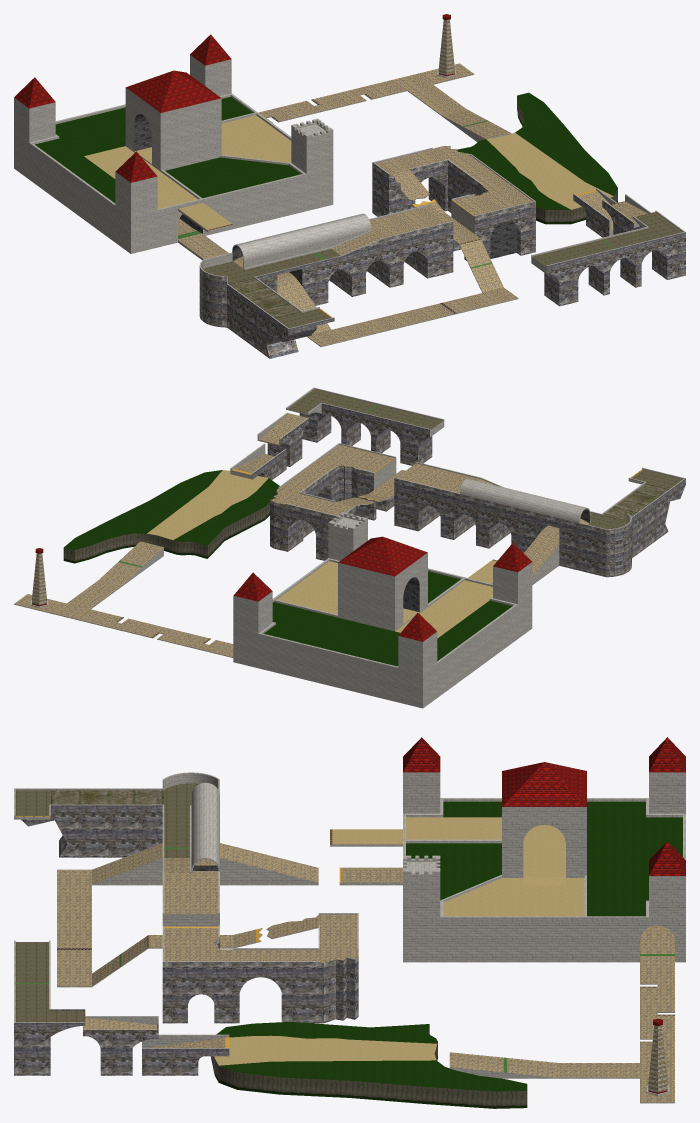
3 renders of one model, top to bottom at view 1: azimuth 30°, elevation 25°; view 2: azimuth 150°, elevation 25°; view 3: azimuth 270°, elevation 25°, orthographic. The views are drawn at different scales.
Visible parts, largest first — view 1: Rempart_Road_YKe_Main-mur1, Rempart_Road_YKe_Main-parois, Rempart_Road_YKe_Main-road, Rempart_Road_YKe_Main-grass_offroad, Rempart_Road_YKe_Main-sand_road, Rempart_Road_YKe_Main-toit, Rempart_Road_YKe_Main-wood_road, Rempart_Road_YKe_Main-mur_int, Rempart_Road_YKe_Main-wood_road1, Rempart_Road_YKe_Main-parois2, Rempart_Road_YKe_Main-phare1; view 2: Rempart_Road_YKe_Main-mur1, Rempart_Road_YKe_Main-parois, Rempart_Road_YKe_Main-grass_offroad, Rempart_Road_YKe_Main-road, Rempart_Road_YKe_Main-sand_road, Rempart_Road_YKe_Main-toit, Rempart_Road_YKe_Main-wood_road, Rempart_Road_YKe_Main-parois2, Rempart_Road_YKe_Main-wood_road1, Rempart_Road_YKe_Main-mur_int, Rempart_Road_YKe_Main-phare1; view 3: Rempart_Road_YKe_Main-mur1, Rempart_Road_YKe_Main-road, Rempart_Road_YKe_Main-parois, Rempart_Road_YKe_Main-grass_offroad, Rempart_Road_YKe_Main-sand_road, Rempart_Road_YKe_Main-toit, Rempart_Road_YKe_Main-wood_road, Rempart_Road_YKe_Main-parois2, Rempart_Road_YKe_Main-wood_road1, Rempart_Road_YKe_Main-phare1.
Boxes of the visible parts, bbox=[...] form: Rempart_Road_YKe_Main-mur1: bbox=[14, 55, 685, 346]; Rempart_Road_YKe_Main-parois: bbox=[199, 160, 685, 358]; Rempart_Road_YKe_Main-road: bbox=[178, 63, 647, 346]; Rempart_Road_YKe_Main-grass_offroad: bbox=[35, 92, 617, 209]; Rempart_Road_YKe_Main-sand_road: bbox=[84, 115, 613, 229]; Rempart_Road_YKe_Main-toit: bbox=[14, 14, 454, 182]; Rempart_Road_YKe_Main-wood_road: bbox=[203, 212, 682, 328]; Rempart_Road_YKe_Main-mur_int: bbox=[134, 114, 516, 285]; Rempart_Road_YKe_Main-wood_road1: bbox=[229, 278, 300, 318]; Rempart_Road_YKe_Main-parois2: bbox=[457, 96, 617, 224]; Rempart_Road_YKe_Main-phare1: bbox=[438, 19, 454, 74]; Rempart_Road_YKe_Main-mur1: bbox=[14, 387, 685, 708]; Rempart_Road_YKe_Main-parois: bbox=[252, 403, 685, 577]; Rempart_Road_YKe_Main-grass_offroad: bbox=[64, 470, 512, 666]; Rempart_Road_YKe_Main-road: bbox=[14, 413, 589, 657]; Rempart_Road_YKe_Main-sand_road: bbox=[147, 470, 496, 638]; Rempart_Road_YKe_Main-toit: bbox=[32, 536, 532, 641]; Rempart_Road_YKe_Main-wood_road: bbox=[288, 389, 682, 529]; Rempart_Road_YKe_Main-parois2: bbox=[63, 502, 269, 563]; Rempart_Road_YKe_Main-wood_road1: bbox=[603, 483, 669, 521]; Rempart_Road_YKe_Main-mur_int: bbox=[403, 509, 589, 612]; Rempart_Road_YKe_Main-phare1: bbox=[32, 553, 46, 605]; Rempart_Road_YKe_Main-mur1: bbox=[14, 772, 685, 1103]; Rempart_Road_YKe_Main-road: bbox=[57, 843, 674, 1102]; Rempart_Road_YKe_Main-parois: bbox=[14, 805, 440, 1075]; Rempart_Road_YKe_Main-grass_offroad: bbox=[216, 801, 682, 1091]; Rempart_Road_YKe_Main-sand_road: bbox=[214, 817, 584, 1065]; Rempart_Road_YKe_Main-toit: bbox=[403, 737, 685, 1093]; Rempart_Road_YKe_Main-wood_road: bbox=[15, 783, 199, 1022]; Rempart_Road_YKe_Main-parois2: bbox=[211, 1024, 527, 1108]; Rempart_Road_YKe_Main-wood_road1: bbox=[51, 790, 163, 804]; Rempart_Road_YKe_Main-phare1: bbox=[648, 1025, 667, 1092].
Size of the model in its own units: 65001 by 15479 by 67112.
15 materials, 15 textured.
